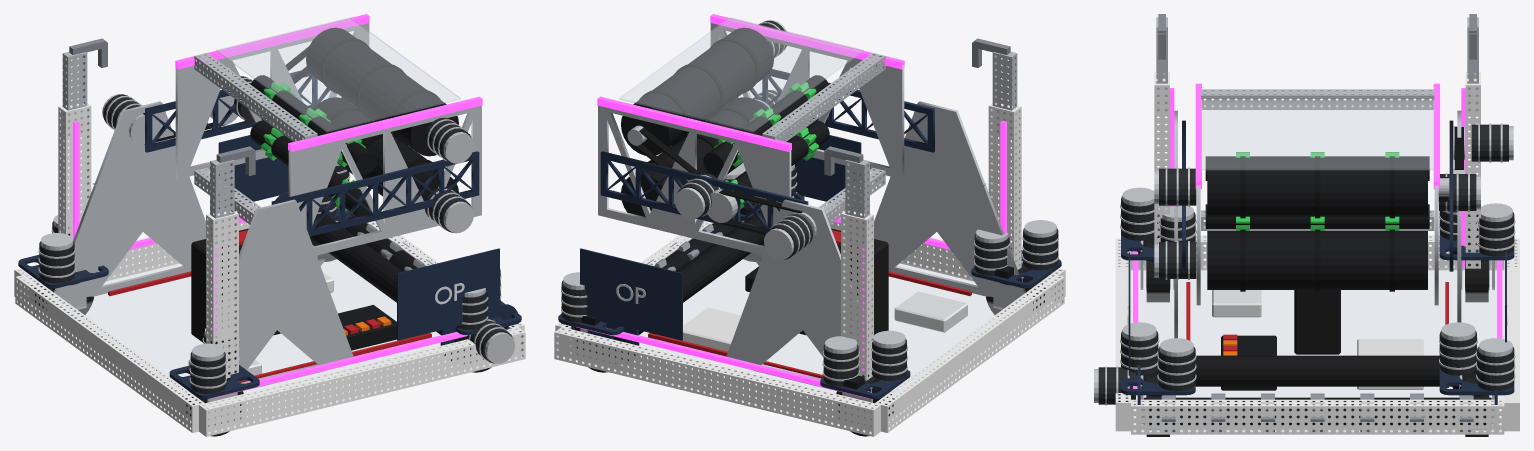
The picture shows the model from 3 angles, left to right: view 1: azimuth 30°, elevation 25°; view 2: azimuth 150°, elevation 25°; view 3: azimuth 270°, elevation 25°; orthographic projection. The views are drawn at different scales.
Parts seen in each view (by area): view 1: body.black_tube, body.silver, pivot.polycarb, pivot.silver, pivot.black, body.polycarb, body.navy_anodized, pivot.navy_anodized, body.black, body.kraken, pivot.aluminum_tube, body.kraken_cap (+12 smaller); view 2: body.black_tube, body.silver, pivot.polycarb, pivot.silver, pivot.black, body.navy_anodized, body.polycarb, pivot.navy_anodized, body.kraken, body.kraken_cap, body.black, pivot.aluminum_tube (+15 smaller); view 3: pivot.black, body.black_tube, body.polycarb, pivot.polycarb, body.black, body.kraken, body.kraken_cap, pivot.aluminum_tube, body.navy_anodized, pivot.kraken, body.battery, pivot.rubber (+16 smaller).
Boxes of the visible parts, x1=… form: body.black_tube: x1=14, y1=103, x2=525, y2=436; body.silver: x1=54, y1=101, x2=353, y2=390; pivot.polycarb: x1=216, y1=17, x2=460, y2=131; pivot.silver: x1=175, y1=23, x2=481, y2=255; pivot.black: x1=250, y1=27, x2=458, y2=217; body.polycarb: x1=24, y1=253, x2=516, y2=430; body.navy_anodized: x1=18, y1=135, x2=521, y2=425; pivot.navy_anodized: x1=145, y1=70, x2=479, y2=236; body.black: x1=70, y1=214, x2=505, y2=381; body.kraken: x1=39, y1=94, x2=513, y2=393; pivot.aluminum_tube: x1=194, y1=53, x2=317, y2=257; body.kraken_cap: x1=38, y1=94, x2=515, y2=388; body.black_tube: x1=554, y1=103, x2=1065, y2=436; body.silver: x1=726, y1=101, x2=1025, y2=390; pivot.polycarb: x1=619, y1=17, x2=863, y2=131; pivot.silver: x1=598, y1=23, x2=904, y2=255; pivot.black: x1=621, y1=27, x2=829, y2=216; body.navy_anodized: x1=558, y1=135, x2=1061, y2=425; body.polycarb: x1=563, y1=253, x2=1055, y2=430; pivot.navy_anodized: x1=600, y1=69, x2=934, y2=235; body.kraken: x1=561, y1=167, x2=1058, y2=386; body.kraken_cap: x1=561, y1=164, x2=1058, y2=381; body.black: x1=574, y1=201, x2=1030, y2=392; pivot.aluminum_tube: x1=762, y1=53, x2=885, y2=257; pivot.black: x1=1205, y1=156, x2=1429, y2=289; body.black_tube: x1=1115, y1=72, x2=1519, y2=434; body.polycarb: x1=1126, y1=265, x2=1509, y2=430; pivot.polycarb: x1=1201, y1=100, x2=1433, y2=169; body.black: x1=1137, y1=236, x2=1491, y2=425; body.kraken: x1=1098, y1=124, x2=1514, y2=404; body.kraken_cap: x1=1094, y1=123, x2=1515, y2=405; pivot.aluminum_tube: x1=1201, y1=89, x2=1434, y2=230; body.navy_anodized: x1=1121, y1=233, x2=1514, y2=404; pivot.kraken: x1=1159, y1=168, x2=1476, y2=278; body.battery: x1=1294, y1=290, x2=1340, y2=354; pivot.rubber: x1=1240, y1=156, x2=1394, y2=291.
Bounding box in the file's own units: 0.6629 × 0.5194 × 0.6955.
Materials: 21 (2 with a texture image).
